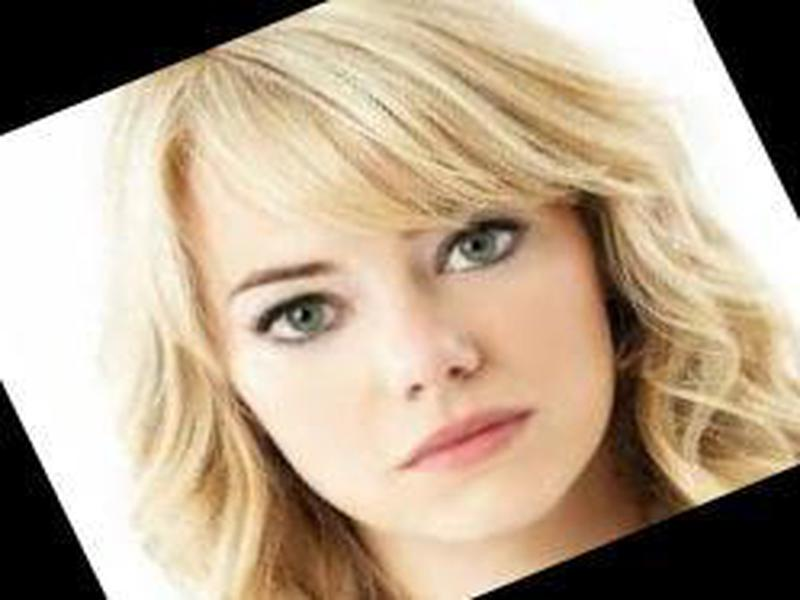without_mask: (182, 173, 615, 542)
